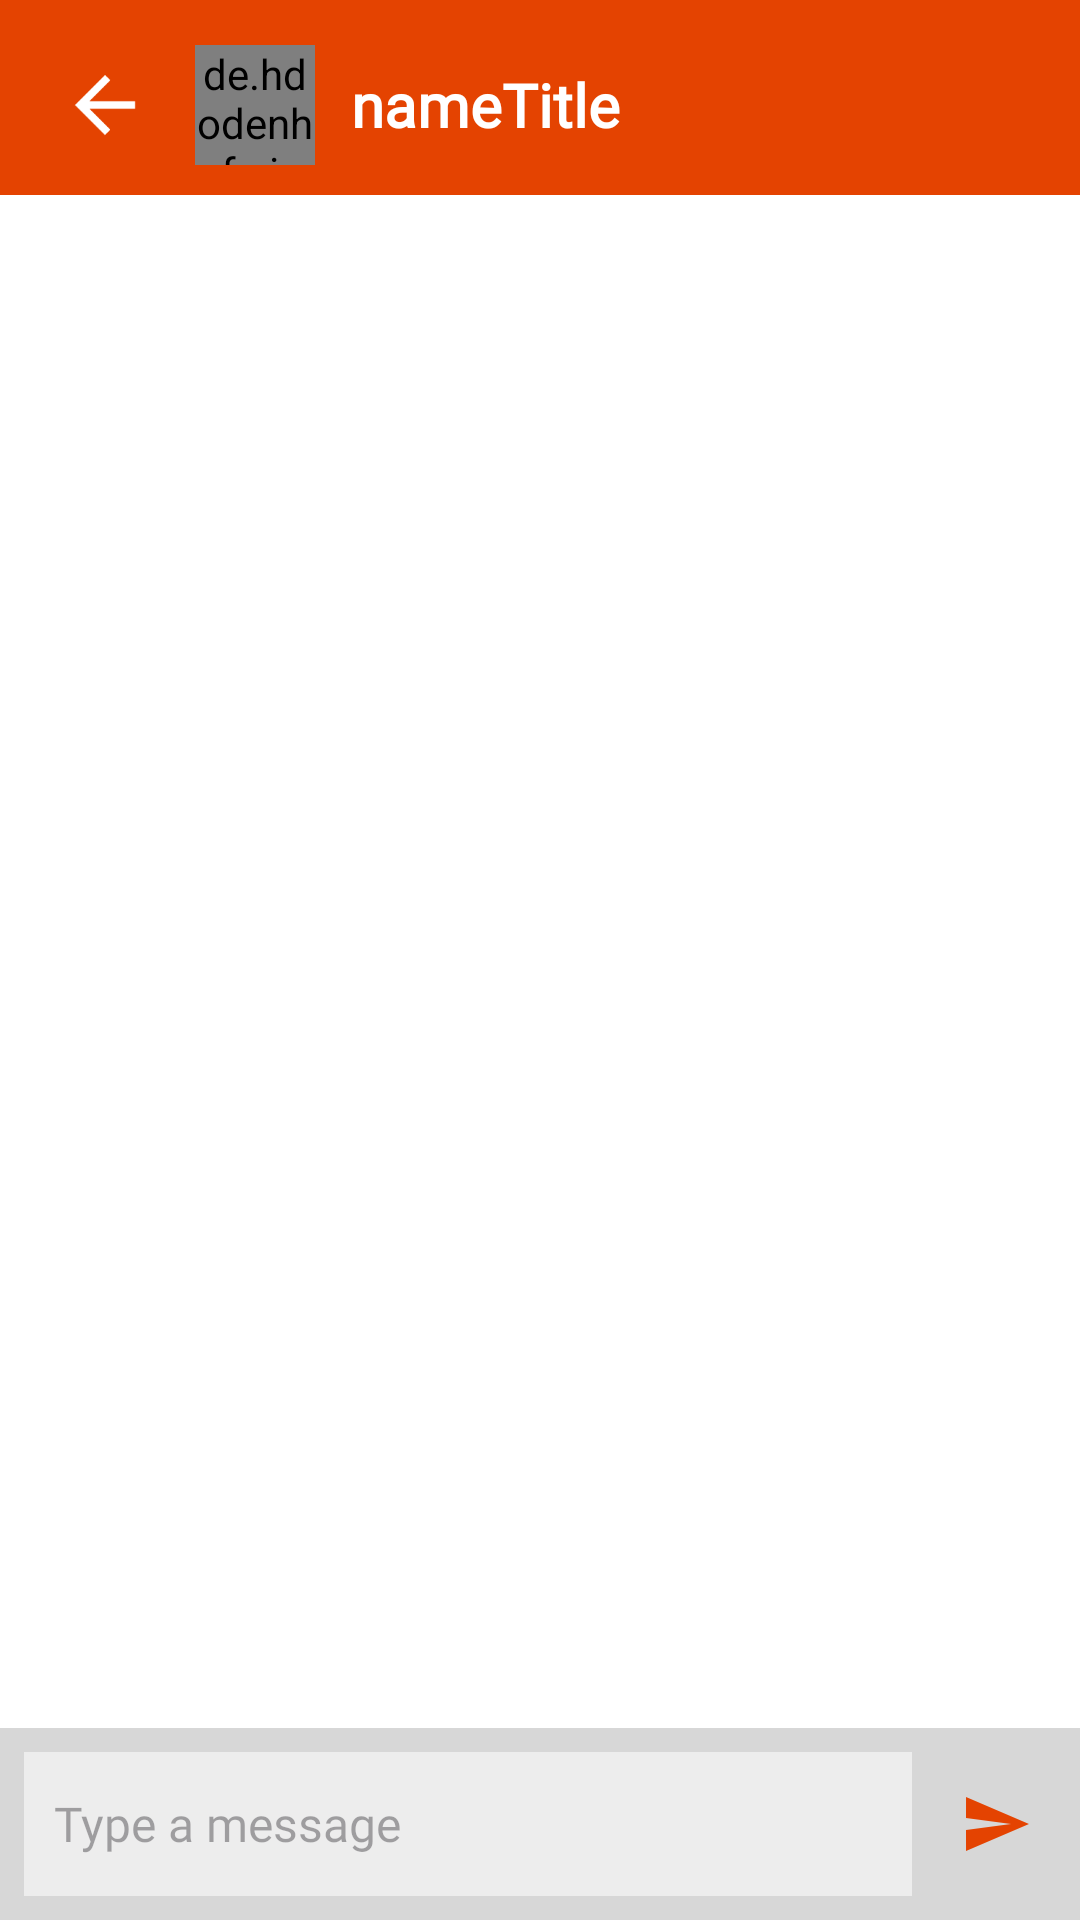

Screen size 1080 x 1920. Icon name, then its center in pixels as [x,y]:
Back: [105,105]
Send message: [997,1824]
